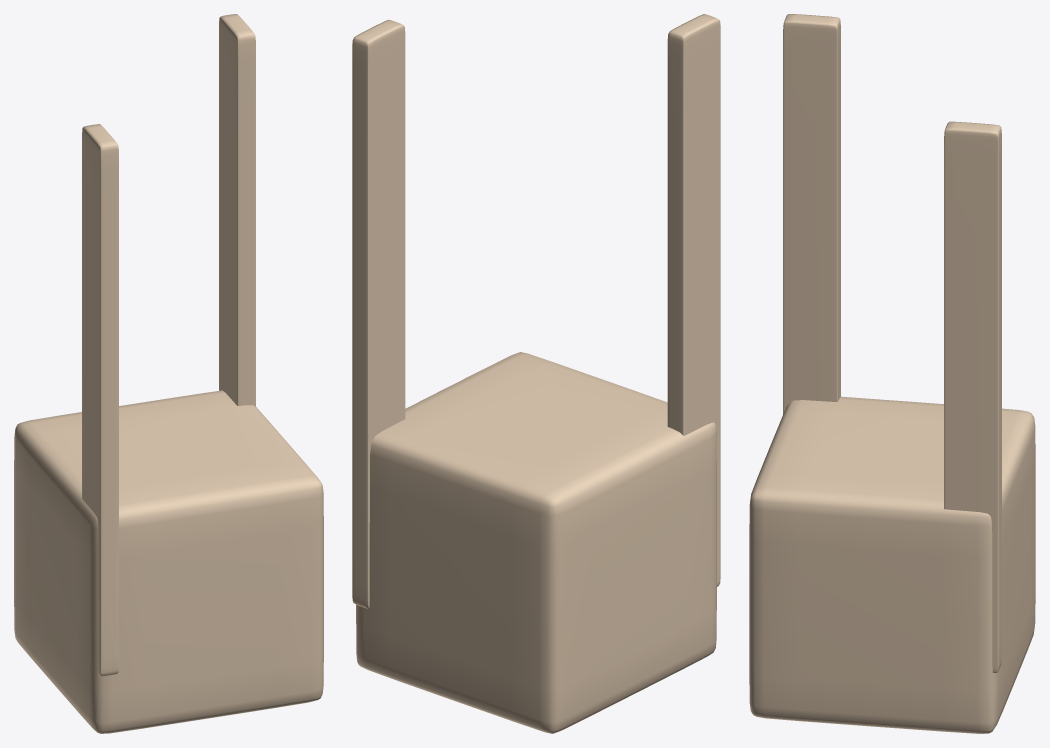
File: PROP_Bench_v0.glb
3 renders of one model, left to right at view 1: azimuth 30°, elevation 25°; view 2: azimuth 150°, elevation 25°; view 3: azimuth 270°, elevation 25°, orthographic. The views are drawn at different scales.
Visible parts, largest first — view 1: PROP_Bench_v0; view 2: PROP_Bench_v0; view 3: PROP_Bench_v0.
Part boxes in pixels (x1=…): PROP_Bench_v0: x1=14, y1=14, x2=323, y2=733; PROP_Bench_v0: x1=352, y1=14, x2=720, y2=733; PROP_Bench_v0: x1=749, y1=14, x2=1035, y2=733.
Size of the model in its own units: 1.13 by 2.64 by 1.13.
